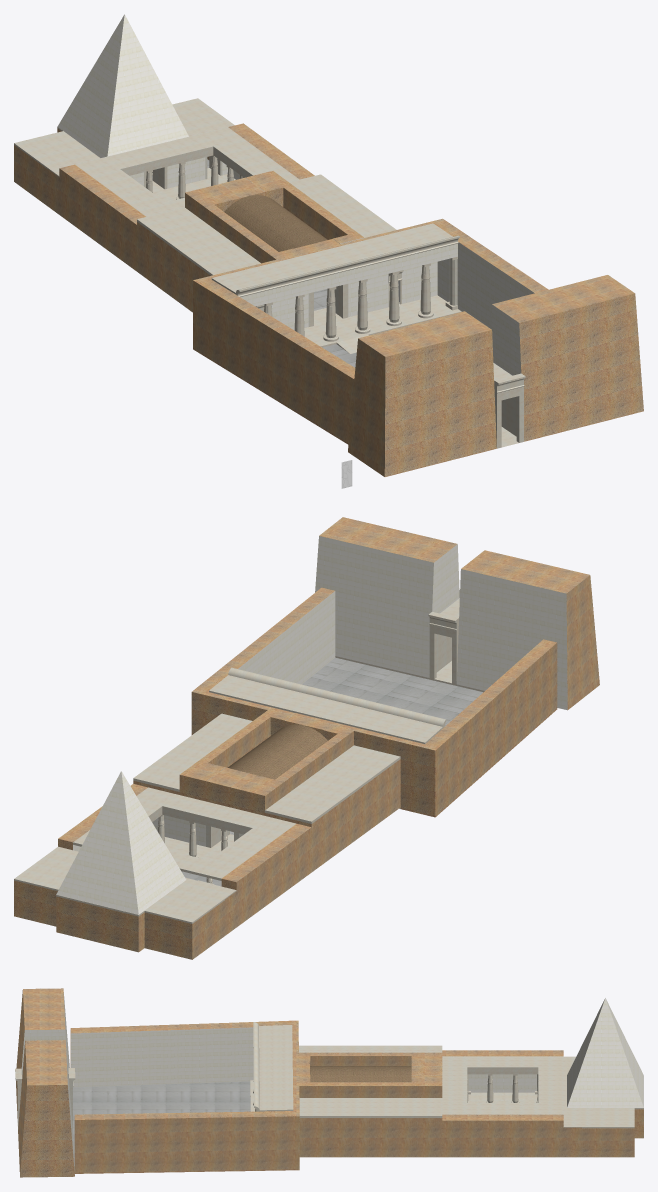
The model's file is Maya_Meryt.glb.
3 renders of one model, top to bottom at view 1: azimuth 30°, elevation 25°; view 2: azimuth 150°, elevation 25°; view 3: azimuth 270°, elevation 25°, orthographic. The views are drawn at different scales.
Visible parts, largest first — view 1: Mesh74 Model, Mesh72 Pyramid1 Model, Mesh10 Inner_Court_Roof1 Model, Mesh1 Roof_B1 Model, Mesh73 West_Roof1 Model, Mesh49 Statue_Vault1 Model, Mesh16 roof_A1 Model, Mesh68 Cornice1 Model, Mesh75 Model; view 2: Mesh74 Model, Mesh72 Pyramid1 Model, Mesh10 Inner_Court_Roof1 Model, Mesh1 Roof_B1 Model, Mesh73 West_Roof1 Model, Mesh16 roof_A1 Model, Mesh49 Statue_Vault1 Model, Mesh68 Cornice1 Model, Mesh75 Model; view 3: Mesh74 Model, Mesh72 Pyramid1 Model, Mesh10 Inner_Court_Roof1 Model, Mesh16 roof_A1 Model, Mesh73 West_Roof1 Model, Mesh49 Statue_Vault1 Model, Mesh1 Roof_B1 Model, Mesh68 Cornice1 Model, Mesh75 Model.
Part boxes in pixels (box(x1,y1,x2,y2)): Mesh74 Model: box(14, 123, 643, 476); Mesh72 Pyramid1 Model: box(57, 14, 188, 157); Mesh10 Inner_Court_Roof1 Model: box(75, 127, 299, 216); Mesh1 Roof_B1 Model: box(137, 207, 260, 275); Mesh73 West_Roof1 Model: box(14, 98, 234, 176); Mesh49 Statue_Vault1 Model: box(224, 195, 327, 251); Mesh16 roof_A1 Model: box(289, 174, 396, 237); Mesh68 Cornice1 Model: box(236, 235, 459, 295); Mesh75 Model: box(123, 149, 250, 177); Mesh74 Model: box(14, 517, 599, 959); Mesh72 Pyramid1 Model: box(56, 771, 186, 914); Mesh10 Inner_Court_Roof1 Model: box(73, 787, 295, 880); Mesh1 Roof_B1 Model: box(265, 745, 400, 823); Mesh73 West_Roof1 Model: box(14, 846, 236, 923); Mesh16 roof_A1 Model: box(133, 713, 252, 791); Mesh49 Statue_Vault1 Model: box(228, 724, 327, 779); Mesh68 Cornice1 Model: box(228, 667, 446, 727); Mesh75 Model: box(149, 808, 249, 834); Mesh74 Model: box(15, 988, 643, 1177); Mesh72 Pyramid1 Model: box(567, 998, 643, 1107); Mesh10 Inner_Court_Roof1 Model: box(442, 1056, 563, 1114); Mesh16 roof_A1 Model: box(299, 1098, 442, 1117); Mesh73 West_Roof1 Model: box(563, 1056, 643, 1128); Mesh49 Statue_Vault1 Model: box(310, 1066, 411, 1082); Mesh1 Roof_B1 Model: box(299, 1045, 442, 1052); Mesh68 Cornice1 Model: box(253, 1022, 259, 1111); Mesh75 Model: box(467, 1069, 538, 1074).
Size of the model in its own units: 19.41 by 9.72 by 44.17.
Materials: 7 (6 with a texture image).
